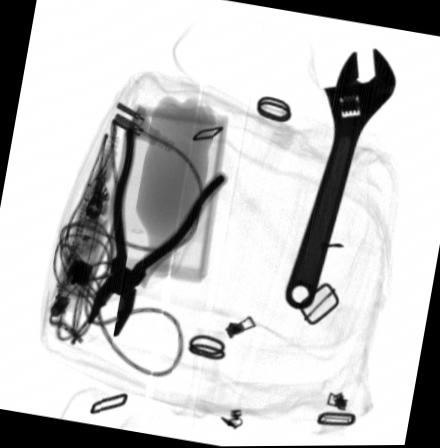Pliers: (84, 123, 227, 341)
Wrench: (284, 46, 397, 312)
